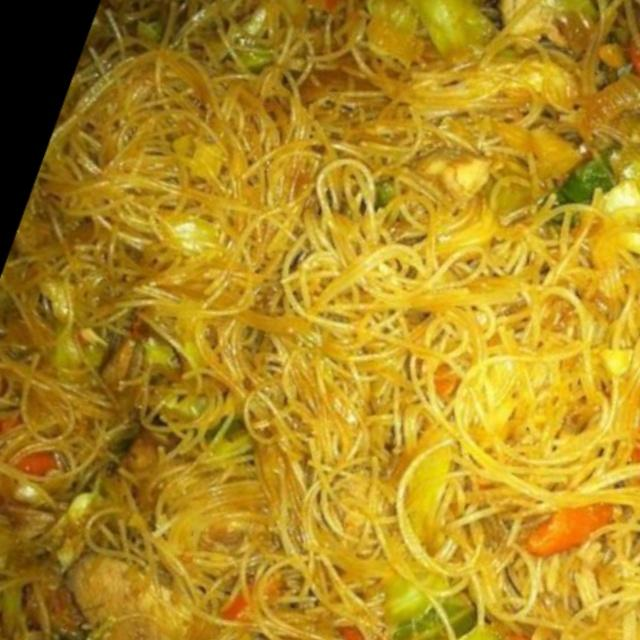pancit bihon: (0, 0, 639, 639)
